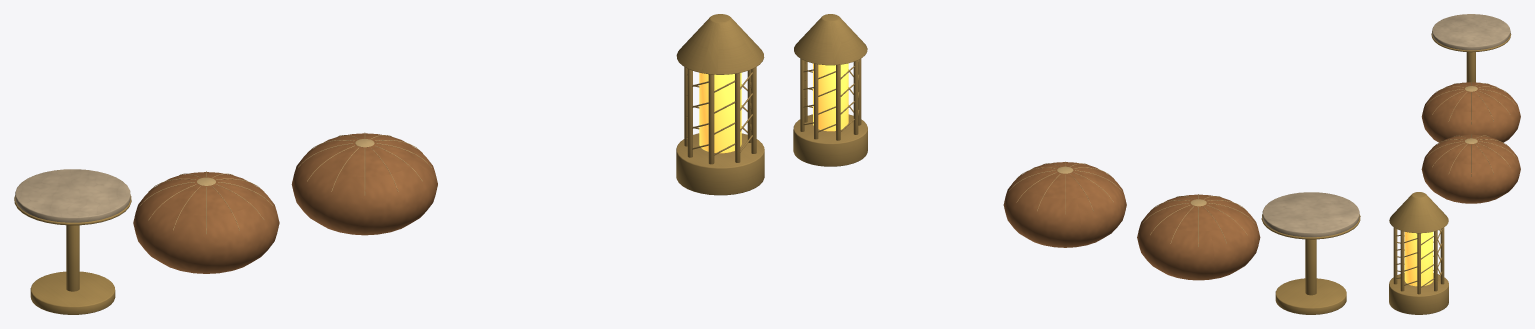
The model's file is riad-furniture.glb.
3 views of the same model, side by side, from view 1: azimuth 30°, elevation 25°; view 2: azimuth 150°, elevation 25°; view 3: azimuth 270°, elevation 25° (orthographic). The views are drawn at different scales.
Parts seen in each view (by area): view 1: Soft round leather ottoman, Weighted pedestal, Honed stone side table, Warm luminous lantern core, Curved hand sewn seam; view 2: Soft round leather ottoman, Weighted pedestal, Honed stone side table, Warm luminous lantern core, Curved hand sewn seam; view 3: Soft round leather ottoman, Weighted pedestal, Honed stone side table, Warm luminous lantern core, Curved hand sewn seam.
Part boxes in pixels (x1,y1,x2,y2): Soft round leather ottoman: (133,133,437,273); Weighted pedestal: (14,14,764,314); Honed stone side table: (15,169,130,222); Warm luminous lantern core: (699,72,741,153); Curved hand sewn seam: (139,132,431,234); Soft round leather ottoman: (1003,162,1260,280); Weighted pedestal: (793,14,1360,314); Honed stone side table: (1262,192,1359,237); Warm luminous lantern core: (813,63,848,131); Curved hand sewn seam: (1009,161,1254,246); Soft round leather ottoman: (1421,82,1520,203); Weighted pedestal: (1389,33,1511,314); Honed stone side table: (1432,14,1510,50); Warm luminous lantern core: (1404,232,1433,286); Curved hand sewn seam: (1426,81,1516,176).
Size of the model in its own units: 4.19 by 0.91 by 1.01.
5 materials, 4 textured.
